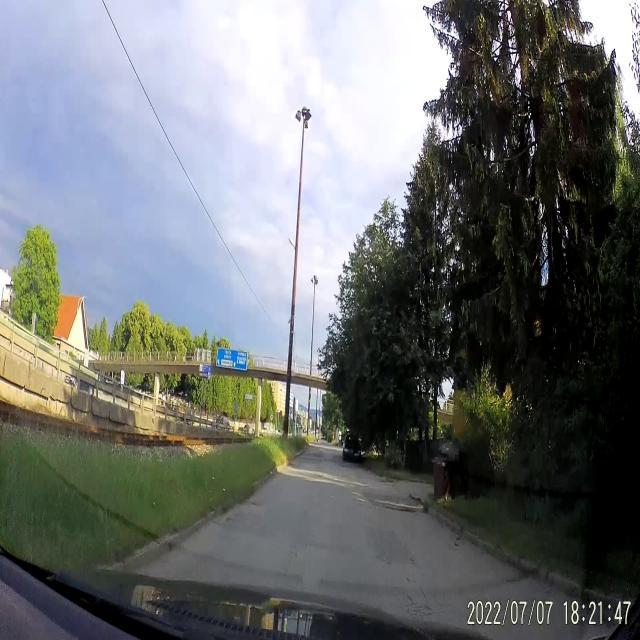Pothole: (375, 502, 422, 524), (246, 489, 264, 512), (452, 536, 464, 554)
